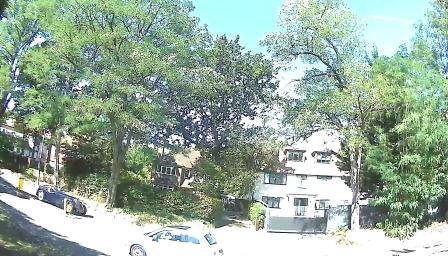Cars: (129, 228, 223, 256), (40, 180, 83, 213)
